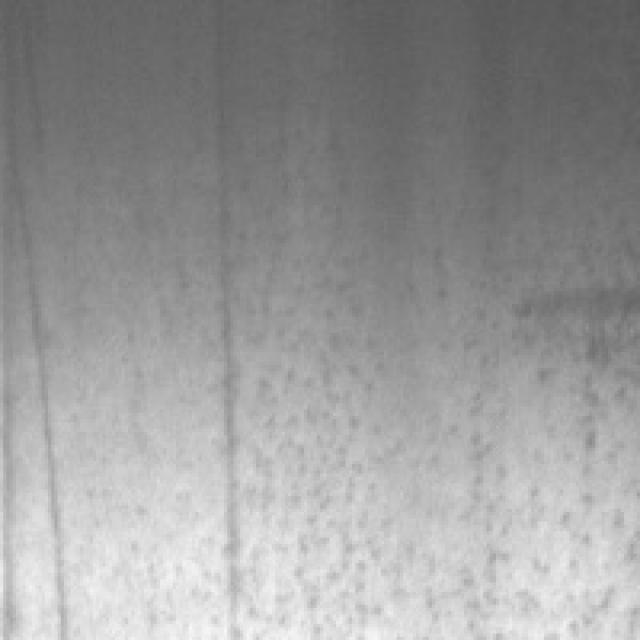pitted_surface: (93, 234, 637, 636)
